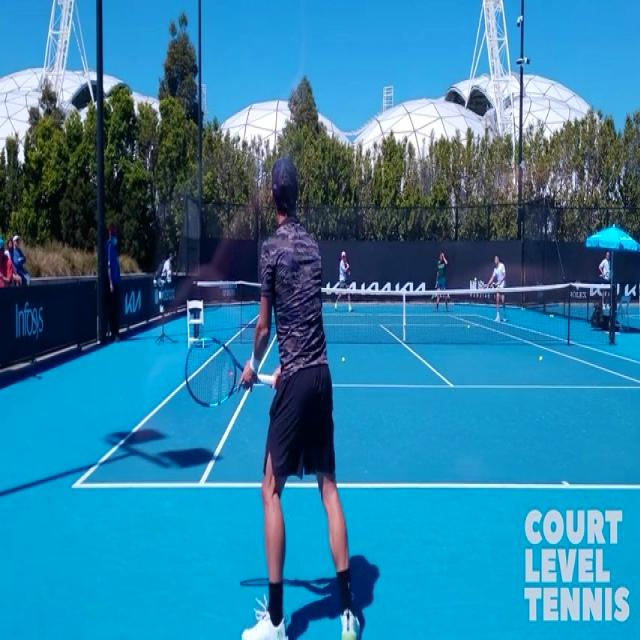ready-position: (183, 163, 365, 640)
